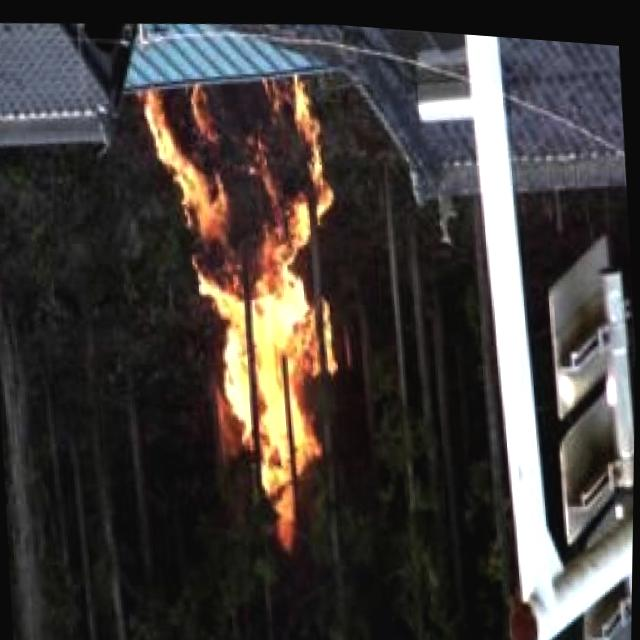Fire: (121, 68, 371, 593)
